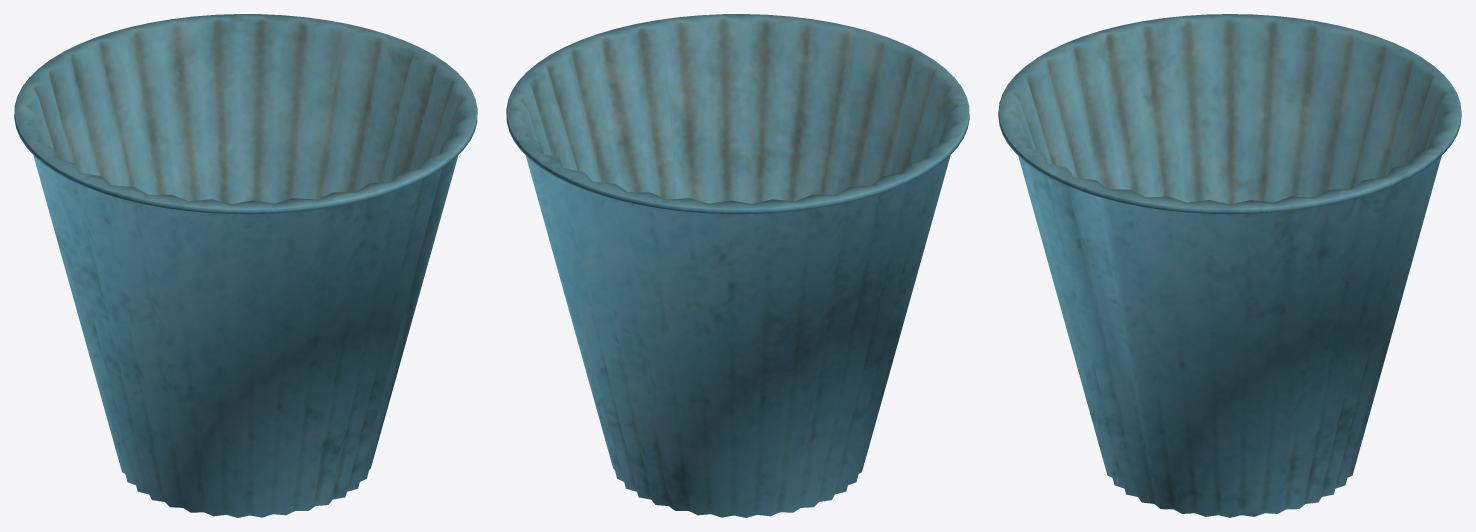
The model's file is trashBin03.FBX.
3 renders of one model, left to right at view 1: azimuth 30°, elevation 25°; view 2: azimuth 150°, elevation 25°; view 3: azimuth 270°, elevation 25°, orthographic.
Visible parts, largest first — view 1: SM_TrashBin03; view 2: SM_TrashBin03; view 3: SM_TrashBin03.
Part boxes in pixels (x1,y1,x2,y2): SM_TrashBin03: [14, 14, 477, 517]; SM_TrashBin03: [506, 14, 969, 517]; SM_TrashBin03: [998, 14, 1461, 517].
Size of the model in its own units: 36.14 by 30.44 by 36.14.
1 material, 1 textured.
